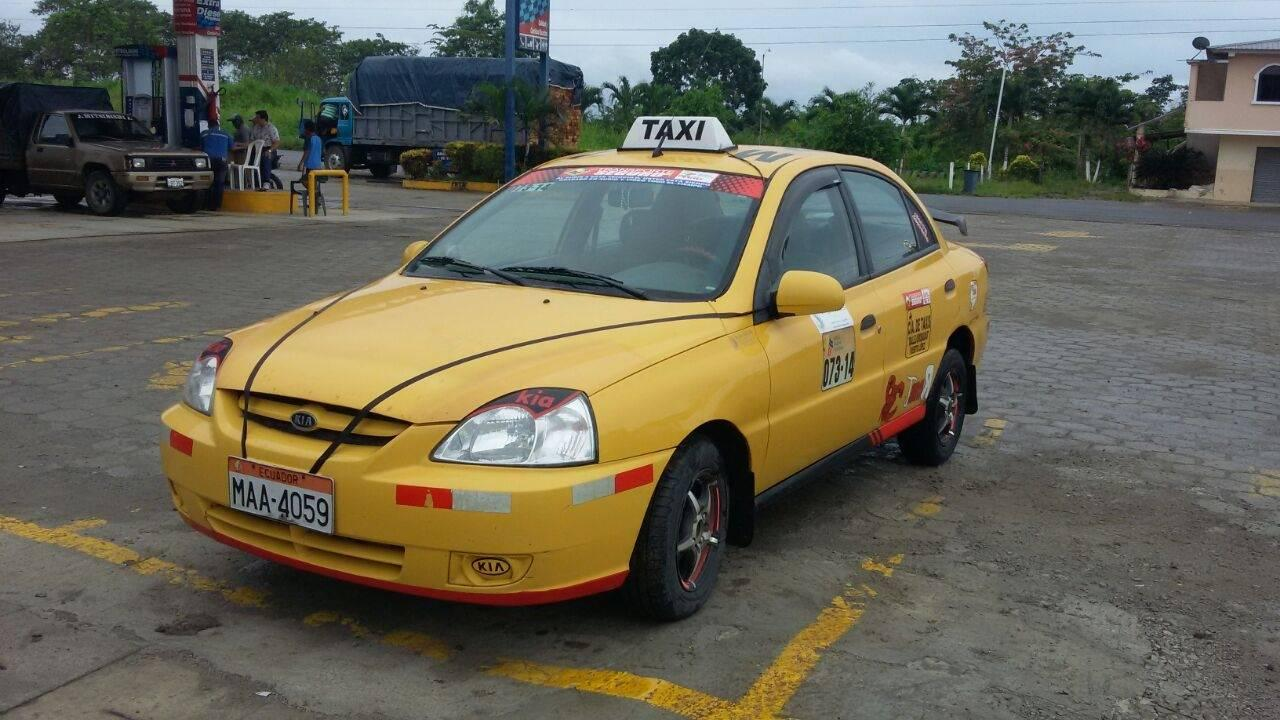taxi: (295, 117, 1018, 578)
